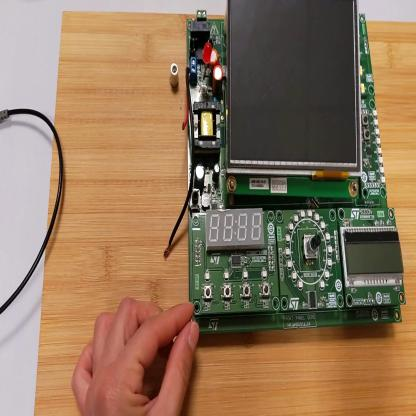hand: (72, 294, 201, 413)
low voltage board: (165, 2, 406, 336)
working area: (35, 13, 416, 416)
